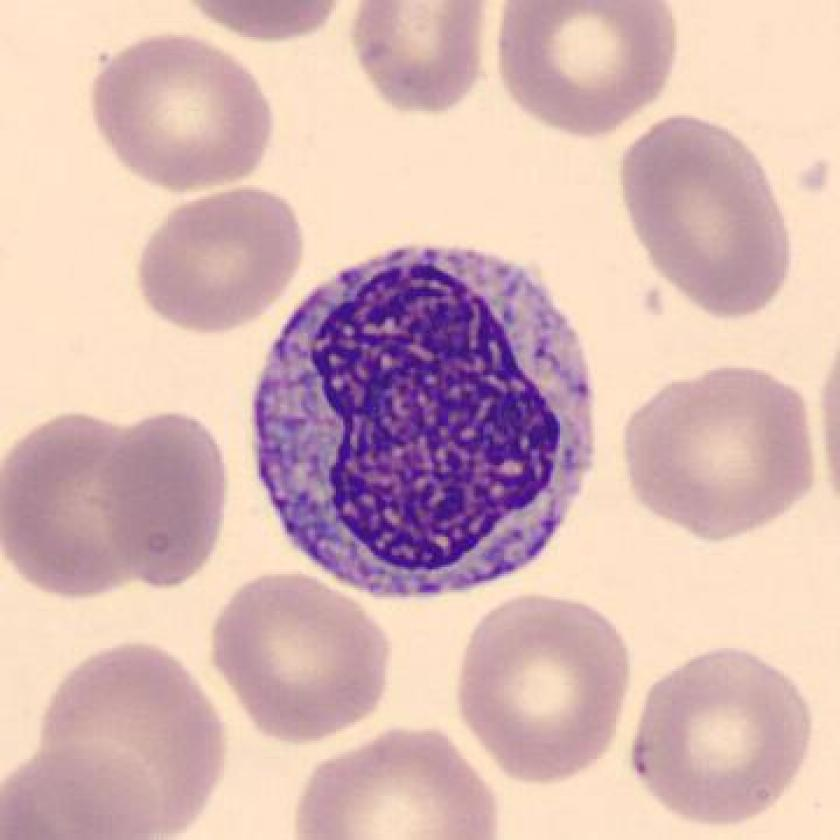monocyte: (232, 228, 619, 614)
